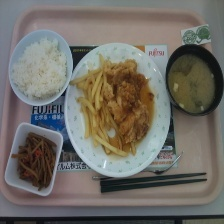rice: (12, 34, 70, 102)
